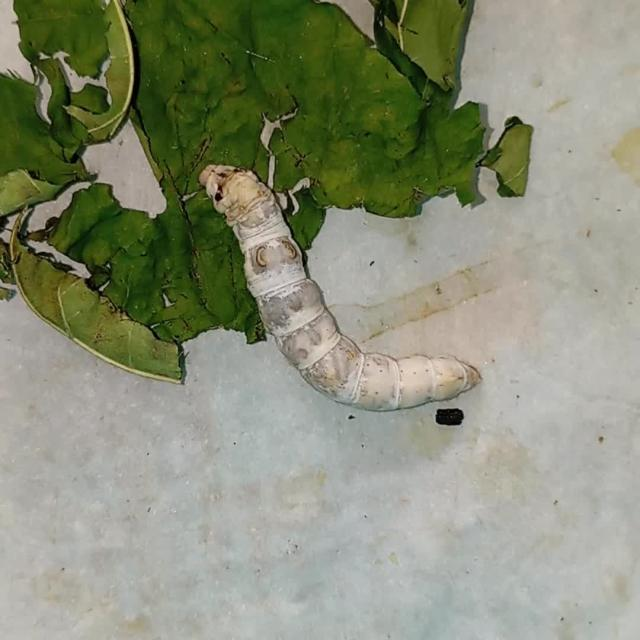Grasserie: (199, 146, 490, 444)
